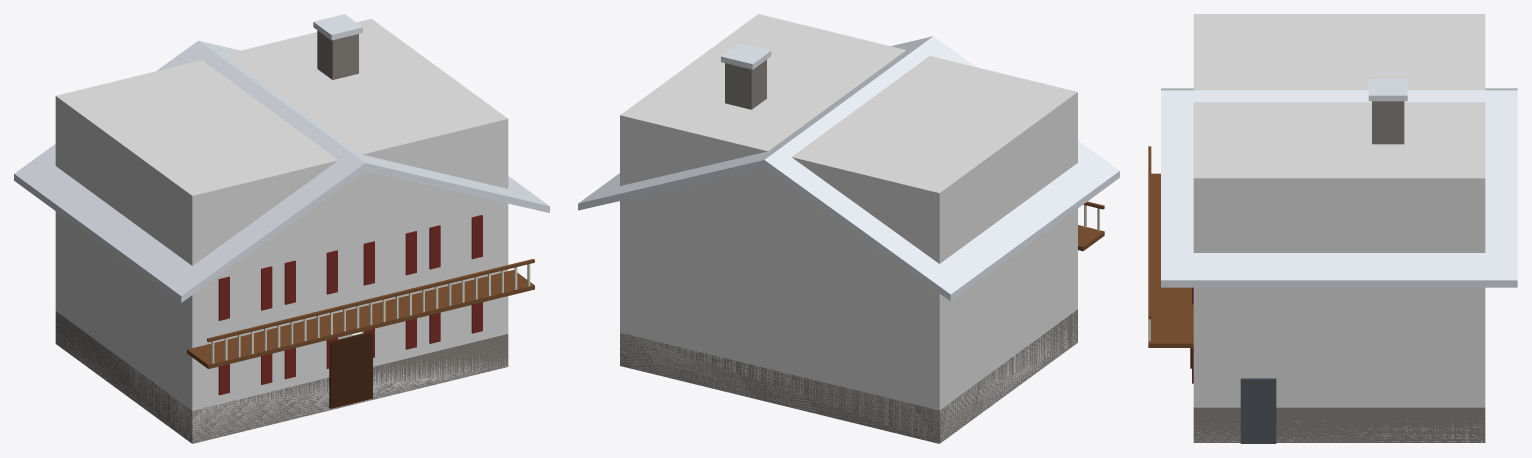
Rendered from chalet.glb.
3 views of the same model, side by side, from view 1: azimuth 30°, elevation 25°; view 2: azimuth 150°, elevation 25°; view 3: azimuth 270°, elevation 25° (orthographic). The views are drawn at different scales.
Visible parts, largest first — view 1: col_0, roof, walls, balcony, shutters, front_door, chimney; view 2: col_0, roof, walls, chimney, balcony; view 3: col_0, roof, walls, balcony, service_door, chimney.
Boxes of the visible parts, <box> form: col_0: <box>55,18,508,443</box>; roof: <box>14,40,549,302</box>; walls: <box>55,311,508,443</box>; balcony: <box>187,259,534,368</box>; shutters: <box>218,215,482,395</box>; front_door: <box>329,332,372,408</box>; chimney: <box>313,14,362,79</box>; col_0: <box>620,14,1077,443</box>; roof: <box>578,36,1119,301</box>; walls: <box>620,309,1077,443</box>; chimney: <box>721,43,771,109</box>; balcony: <box>1078,201,1104,251</box>; col_0: <box>1193,14,1485,442</box>; roof: <box>1161,88,1517,287</box>; walls: <box>1193,407,1485,442</box>; balcony: <box>1148,146,1193,347</box>; service_door: <box>1240,378,1276,443</box>; chimney: <box>1368,79,1407,144</box>.
Bounding box in the file's own units: 14 × 10.7 × 11.4.
